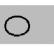no answer: (3, 13, 32, 36)
